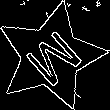M_SE: (16, 22, 85, 91)
